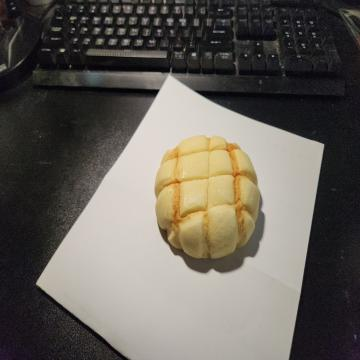melon_bread: (155, 135, 261, 260)
